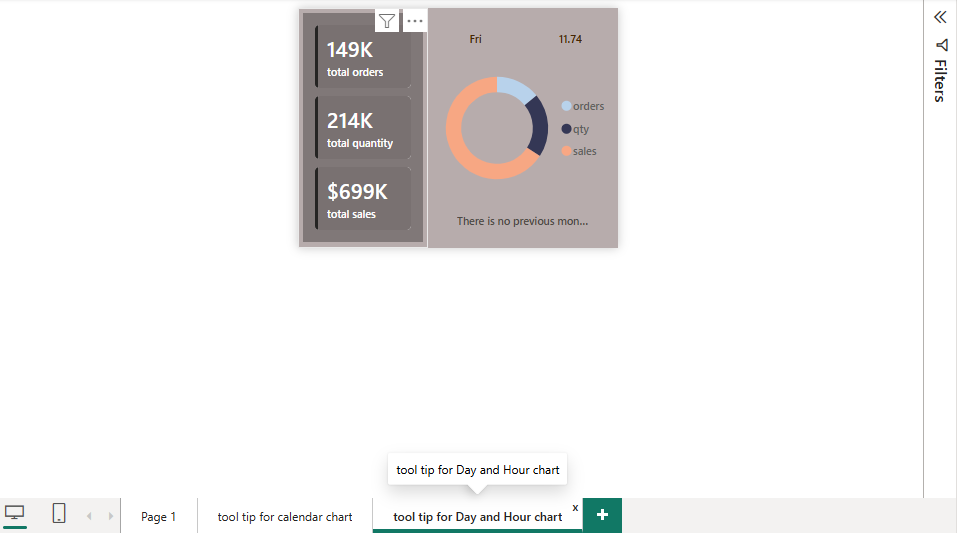

Layout of this report page (visuals, bound fields, positions):
{"tool":"powerbi","page":{"name":"tool tip for Day and Hour chart","canvas":[320,240],"ordinal":2},"visuals":[{"type":"cardVisual","fields":{"Data":["fast_food_sales.total_orders","fast_food_sales.total_quantity","fast_food_sales.total_sales"]},"box":[0,0,130,240],"z":0},{"type":"donutChart","fields":{"Y":["fast_food_sales.total orders","fast_food_sales.total quantity","fast_food_sales.total sales"]},"box":[130,0,190,240],"z":1000},{"type":"cardVisual","fields":{"Data":["Avg(fast_food_sales.transaction_Hours)"]},"box":[225,0,95,58],"z":2000},{"type":"cardVisual","fields":{"Data":["fast_food_sales.sales_MOM_grouth_&_months_difference"]},"box":[130,182,190,58],"z":3000},{"type":"cardVisual","fields":{"Data":["Min(DATE_Table.Day name)"]},"box":[130,0,95,58],"z":4000}]}

Visuals, with their boxes on the page's 320x240 design canvas (x1, y1, x2, y2). These are canvas units, not pixel positions in the 957x533 screenshot, which may show the page scaled, cropped or inside an application window:
cardVisual - fast_food_sales.total_orders x fast_food_sales.total_quantity: [x1=0, y1=0, x2=130, y2=240]
donutChart - fast_food_sales.total orders x fast_food_sales.total quantity: [x1=130, y1=0, x2=320, y2=240]
cardVisual - Avg(fast_food_sales.transaction_Hours): [x1=225, y1=0, x2=320, y2=58]
cardVisual - fast_food_sales.sales_MOM_grouth_&_months_difference: [x1=130, y1=182, x2=320, y2=240]
cardVisual - Min(DATE_Table.Day name): [x1=130, y1=0, x2=225, y2=58]
